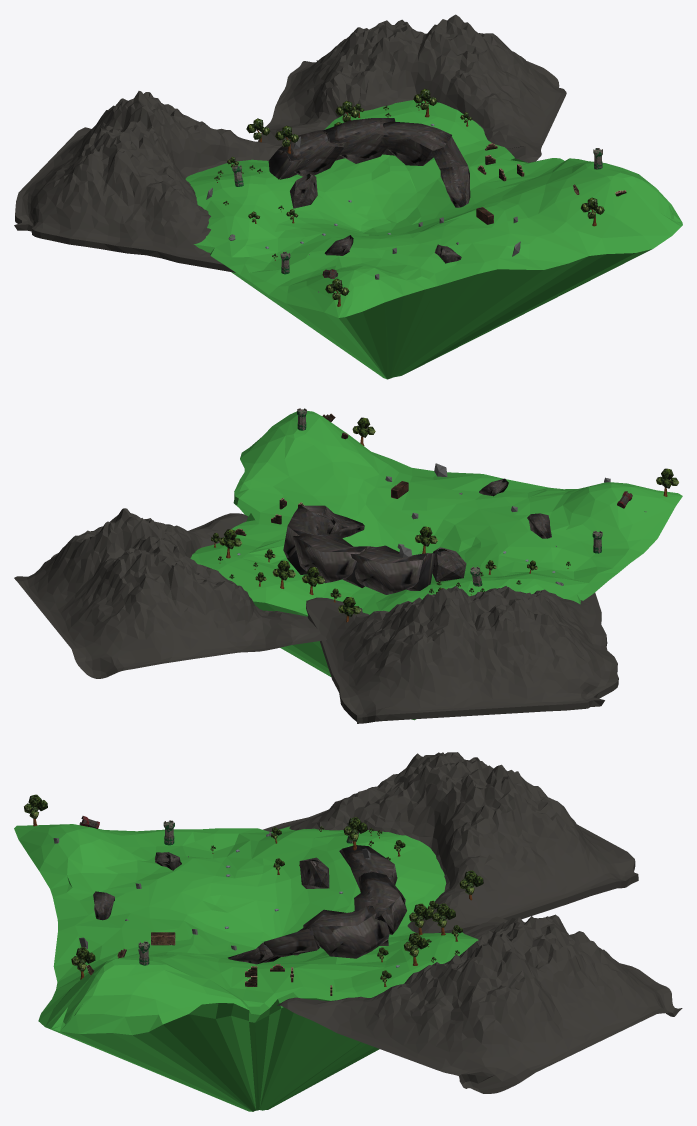
File: Map01.fbx
3 views of the same model, one above another, from view 1: azimuth 30°, elevation 25°; view 2: azimuth 150°, elevation 25°; view 3: azimuth 270°, elevation 25° (orthographic). The views are drawn at different scales.
Visible parts, largest first — view 1: Plane.001; view 2: Plane.001; view 3: Plane.001.
Boxes of the visible parts, x1,y1,x2,y2 form: Plane.001: [14, 14, 682, 379]; Plane.001: [14, 408, 682, 723]; Plane.001: [14, 752, 682, 1111].
Bounding box in the file's own units: 101410 × 41481 × 94127.
